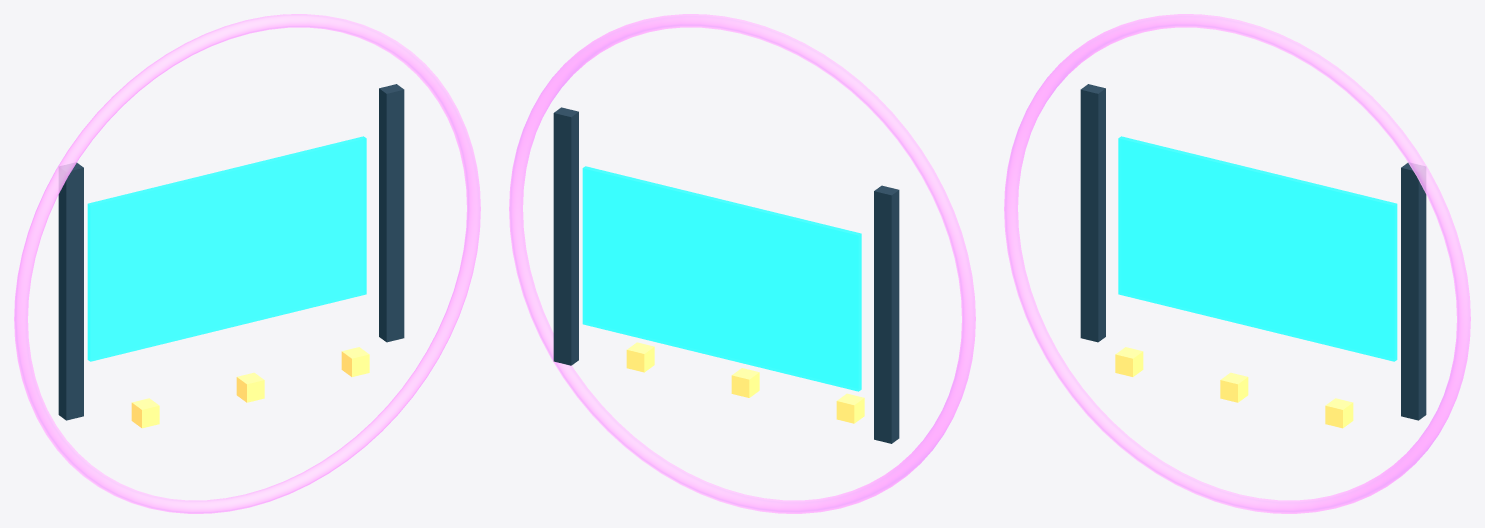
File: replay-memory-film-v1.glb
3 views of the same model, side by side, from view 1: azimuth 30°, elevation 25°; view 2: azimuth 150°, elevation 25°; view 3: azimuth 330°, elevation 25° (orthographic).
Visible parts, largest first — view 1: replay_memory_screen_plane, replay_memory_thread_tunnel, replay_film_frame_right, replay_film_frame_left, replay_beat_marker_02, replay_beat_marker_01, replay_beat_marker_03; view 2: replay_memory_screen_plane, replay_memory_thread_tunnel, replay_film_frame_left, replay_film_frame_right, replay_beat_marker_02, replay_beat_marker_01, replay_beat_marker_03; view 3: replay_memory_screen_plane, replay_memory_thread_tunnel, replay_film_frame_left, replay_film_frame_right, replay_beat_marker_02, replay_beat_marker_01, replay_beat_marker_03.
Part boxes in pixels (box(x1,y1,x2,y2)): replay_memory_screen_plane: box(87, 136, 366, 361); replay_memory_thread_tunnel: box(14, 14, 480, 513); replay_film_frame_right: box(379, 84, 404, 342); replay_film_frame_left: box(58, 162, 83, 420); replay_beat_marker_02: box(236, 372, 264, 402); replay_beat_marker_01: box(131, 398, 159, 428); replay_beat_marker_03: box(341, 347, 369, 376); replay_memory_screen_plane: box(582, 166, 861, 391); replay_memory_thread_tunnel: box(509, 14, 975, 513); replay_film_frame_left: box(874, 185, 899, 443); replay_film_frame_right: box(553, 107, 578, 365); replay_beat_marker_02: box(731, 368, 759, 397); replay_beat_marker_01: box(836, 393, 864, 423); replay_beat_marker_03: box(626, 342, 654, 372); replay_memory_screen_plane: box(1118, 136, 1397, 361); replay_memory_thread_tunnel: box(1004, 14, 1470, 513); replay_film_frame_left: box(1080, 84, 1105, 342); replay_film_frame_right: box(1401, 162, 1426, 420); replay_beat_marker_02: box(1220, 372, 1248, 402); replay_beat_marker_01: box(1115, 347, 1143, 376); replay_beat_marker_03: box(1325, 398, 1353, 428).
Bounding box in the file's own units: 4.21 × 4.21 × 0.4725.
